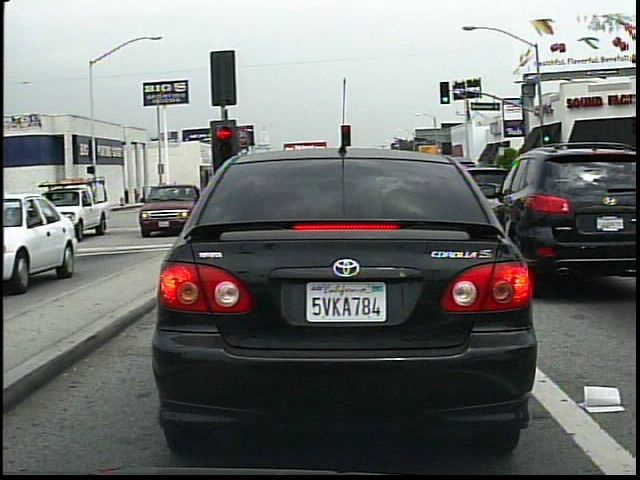person: (163, 172, 185, 201)
